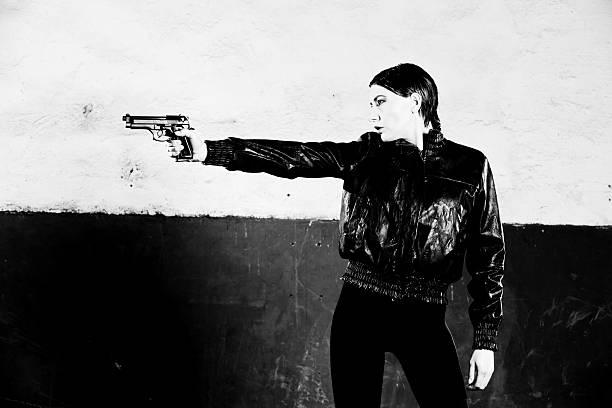weapon: (121, 111, 196, 166)
